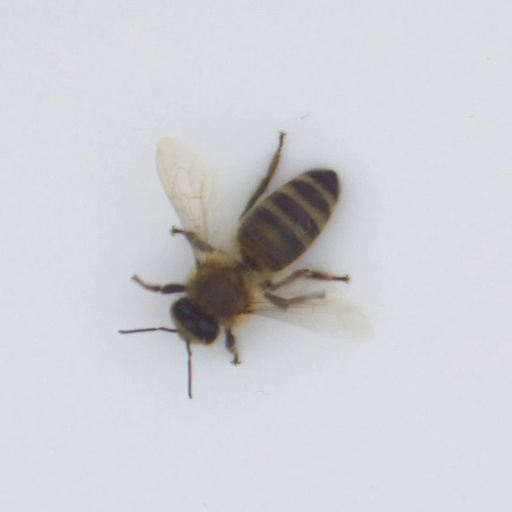Bee: (155, 146, 370, 367)
Thorax: (187, 254, 255, 323)
